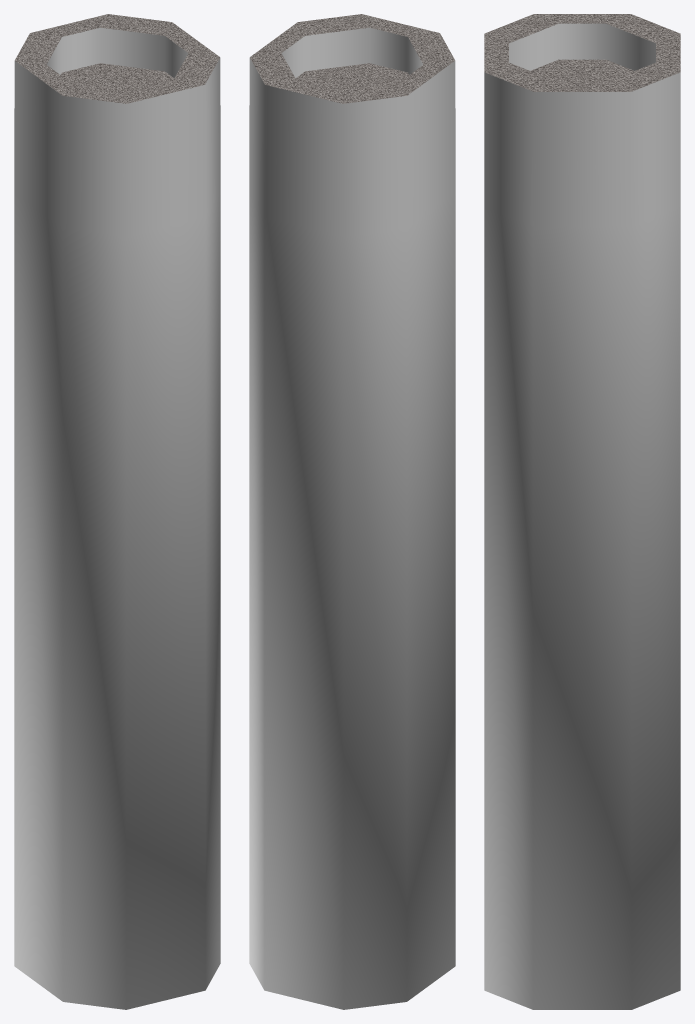
File: PostApocCity3.fbx
The picture shows the model from 3 angles, left to right: view 1: azimuth 30°, elevation 25°; view 2: azimuth 150°, elevation 25°; view 3: azimuth 270°, elevation 25°; orthographic projection.
Parts seen in each view (by area): view 1: CityGen.003; view 2: CityGen.003; view 3: CityGen.003.
Part boxes in pixels (left/top/right/bottom): CityGen.003: left=14, top=14, right=220, bottom=1009; CityGen.003: left=249, top=14, right=455, bottom=1009; CityGen.003: left=484, top=14, right=680, bottom=1009.
Bounding box in the file's own units: 46.32 × 254 × 49.26.
